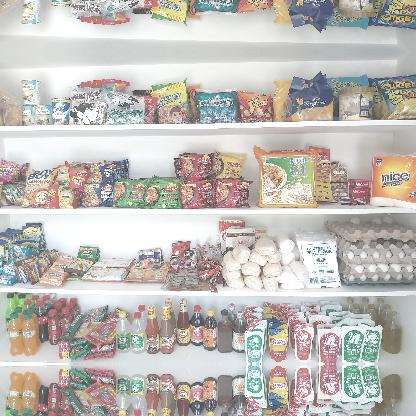Lady-s-Choice: (338, 86, 374, 120), (337, 0, 375, 18)
